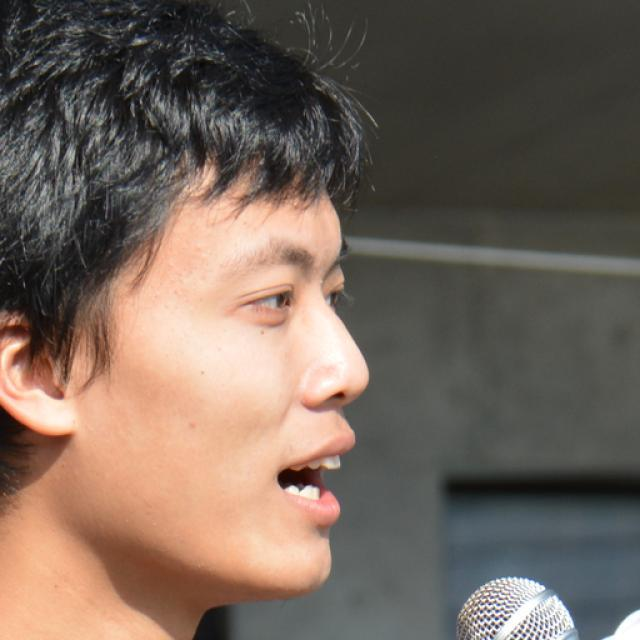neutral: (76, 155, 374, 603)
